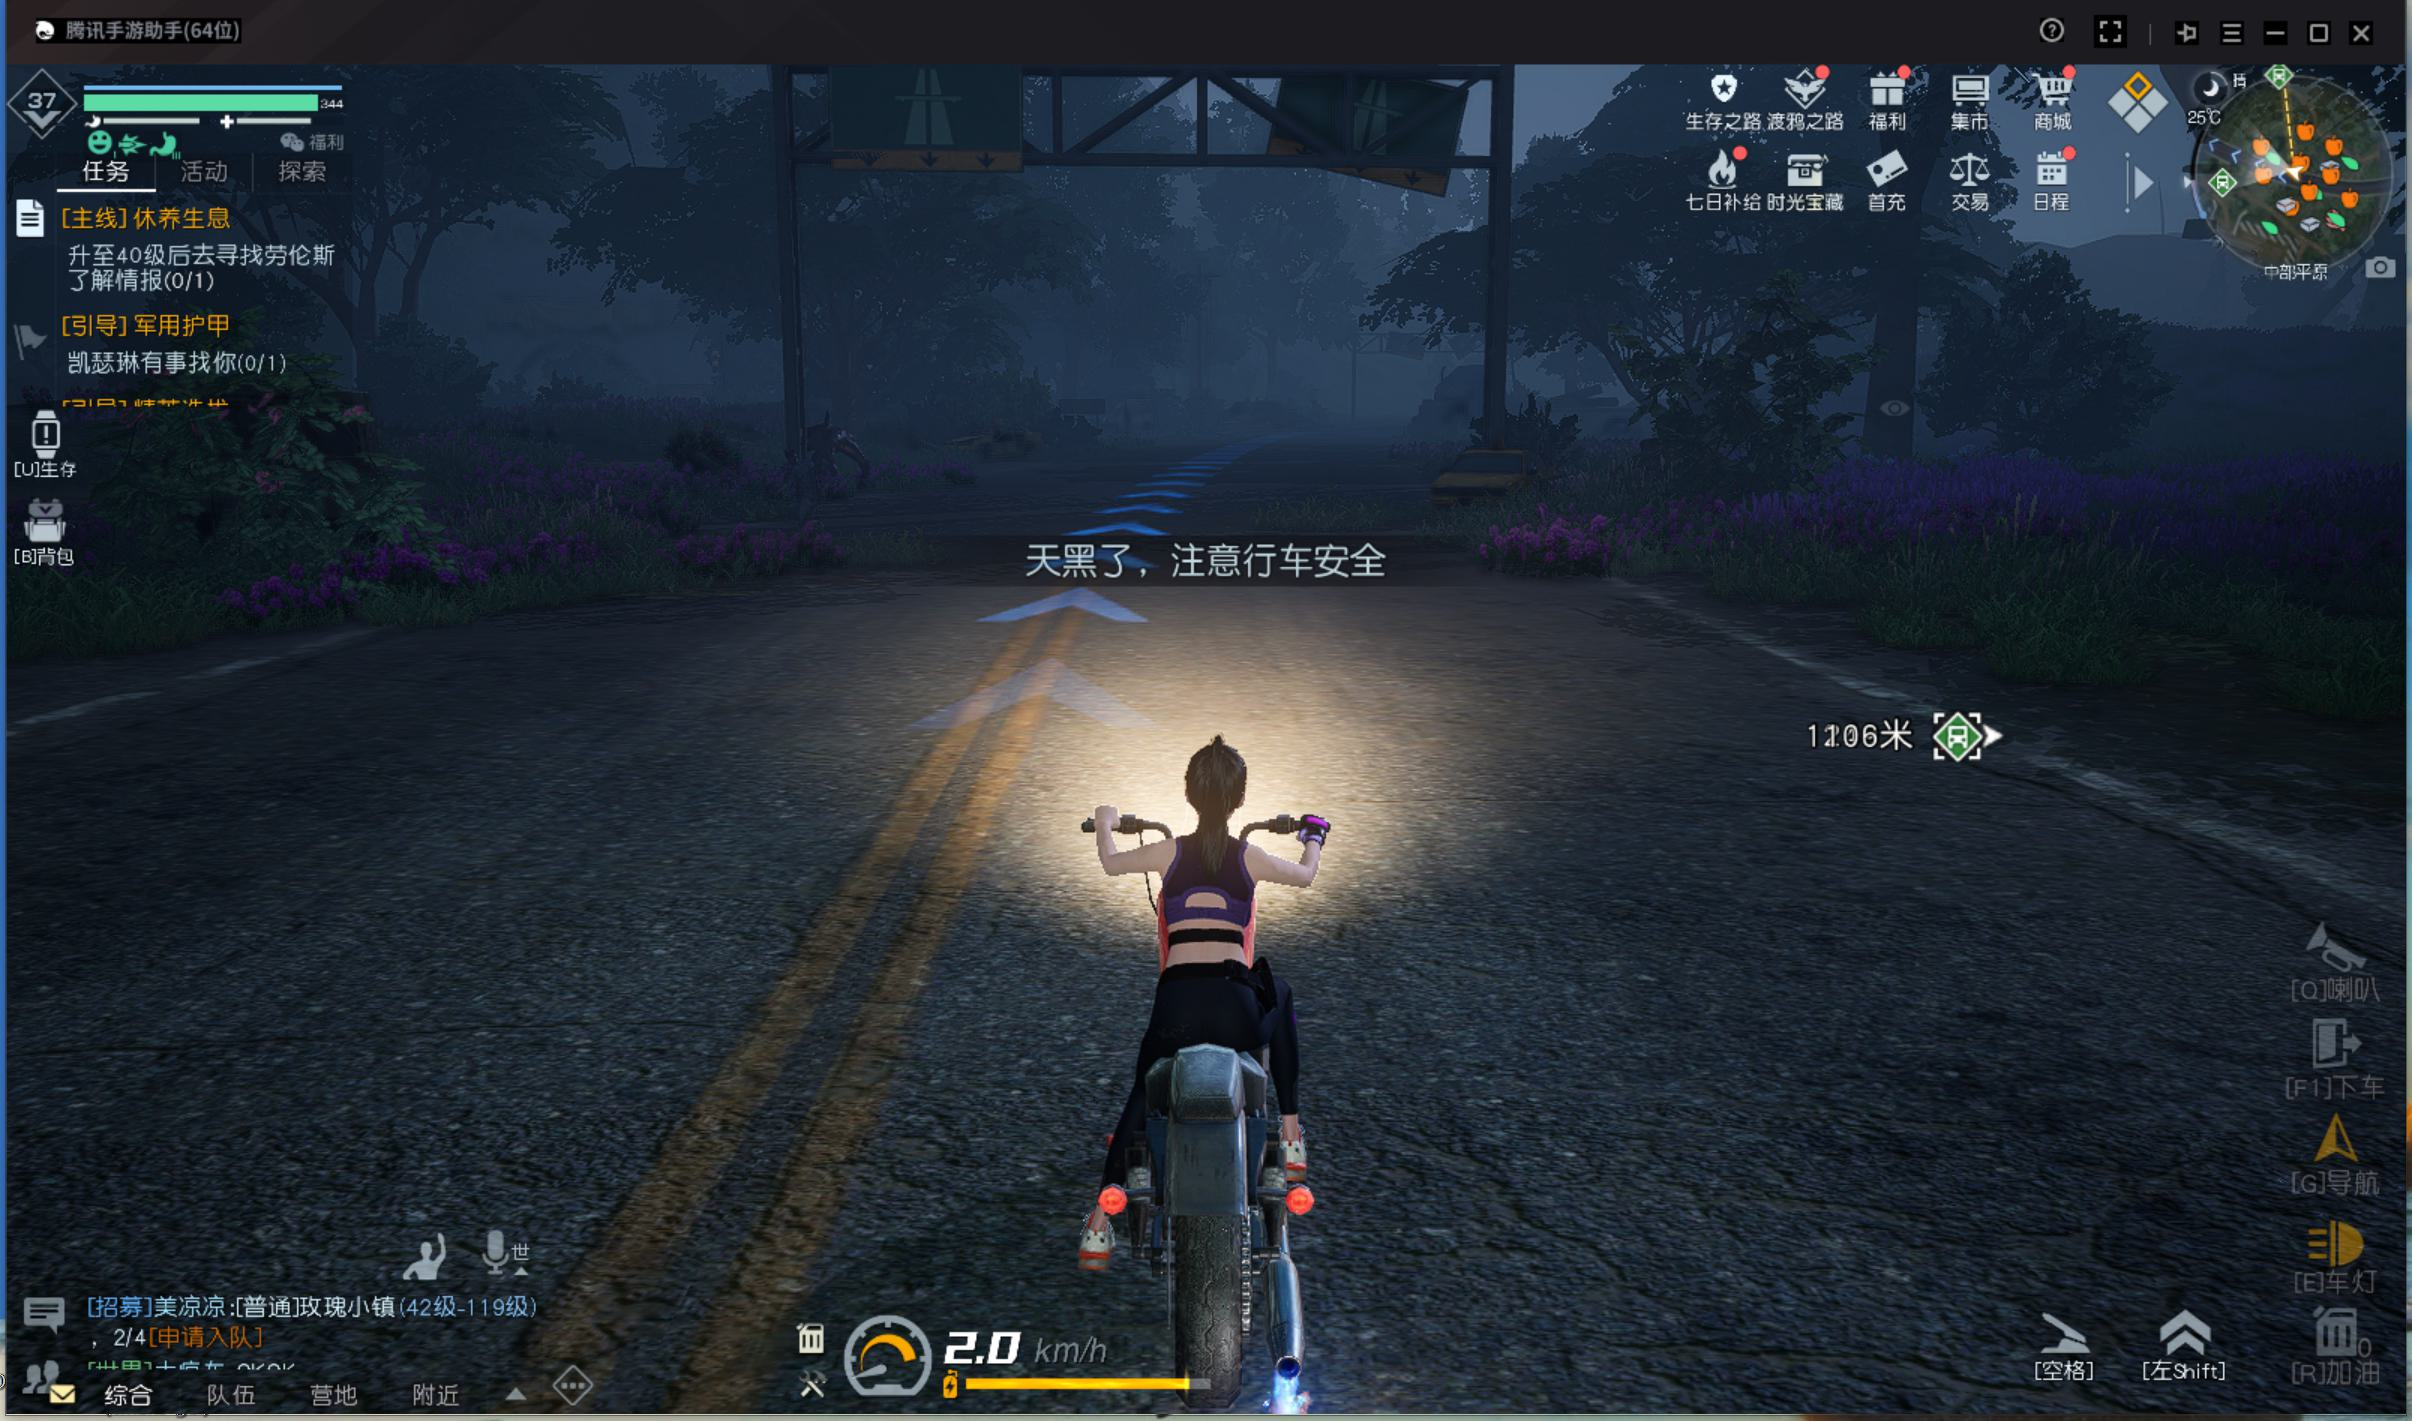tree: (1856, 269, 1928, 484)
